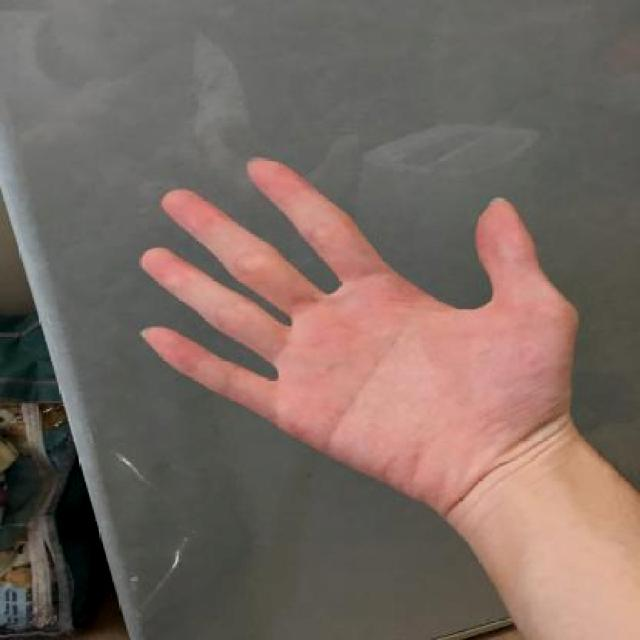no_glove: (126, 140, 586, 511)
